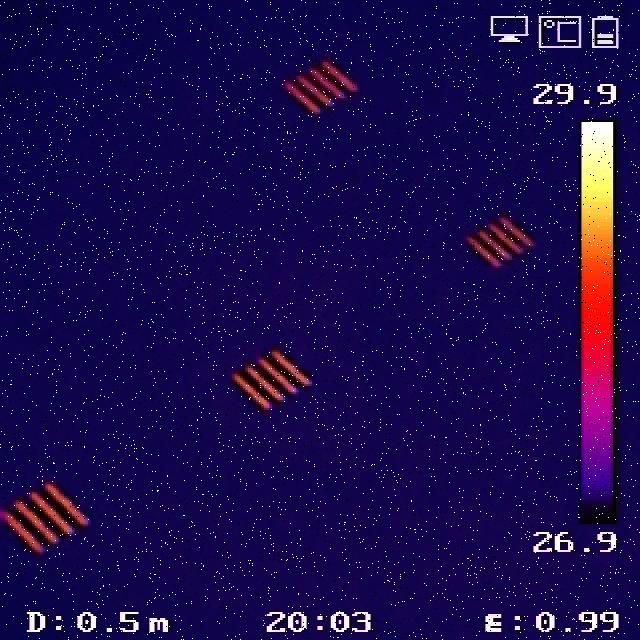Distinguishable 4-bar target: (7, 484, 89, 551), (275, 60, 361, 119), (235, 348, 313, 411), (466, 217, 534, 269)
